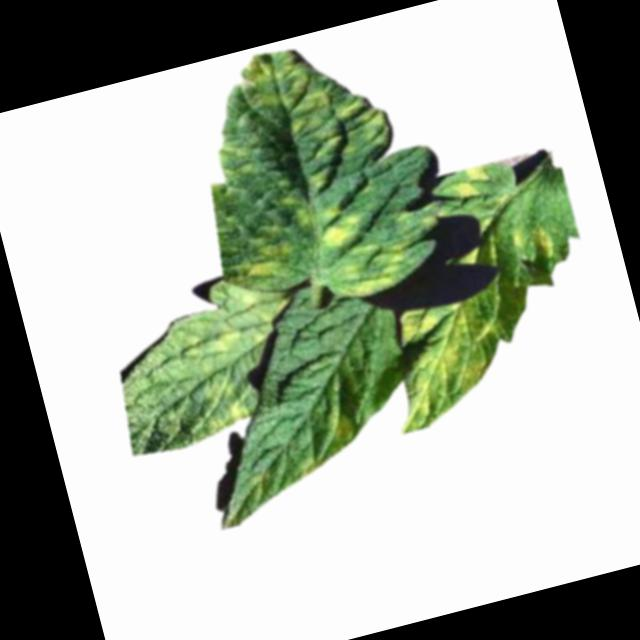Leaf_Mold: (233, 27, 404, 205), (374, 283, 531, 432), (154, 274, 296, 375), (321, 229, 419, 305), (186, 368, 254, 438), (290, 192, 364, 254), (239, 232, 298, 289), (505, 215, 559, 267), (313, 401, 357, 455), (444, 161, 494, 203), (288, 452, 323, 482)
